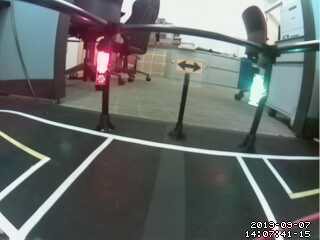Left_Right_sign: (174, 56, 207, 74)
Traffic_light_green: (253, 73, 266, 108)
Traffic_light_red: (92, 50, 110, 87)
